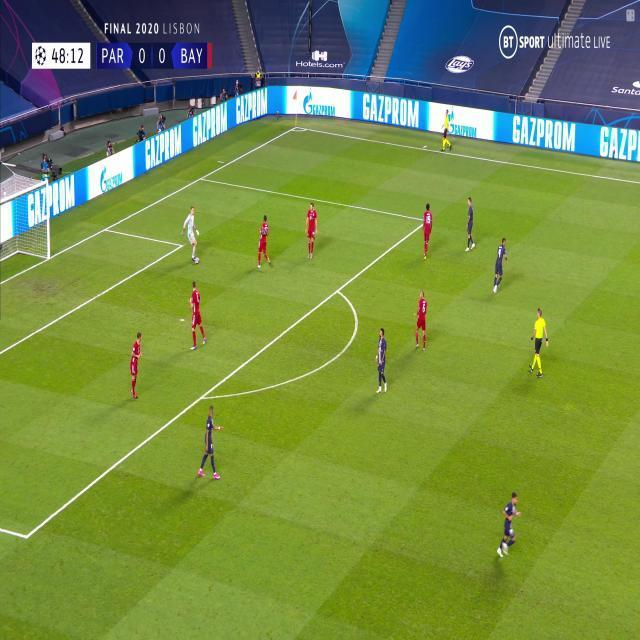ball: (195, 257, 201, 266)
goalkeeper: (183, 205, 201, 265)
player: (198, 404, 223, 479), (496, 490, 522, 559), (188, 280, 206, 351), (128, 331, 145, 401), (374, 327, 388, 395), (492, 235, 508, 294), (414, 289, 428, 354), (257, 215, 273, 270), (304, 200, 318, 262), (421, 203, 434, 261), (464, 195, 476, 253)
referee: (528, 307, 549, 378), (440, 109, 453, 153)
